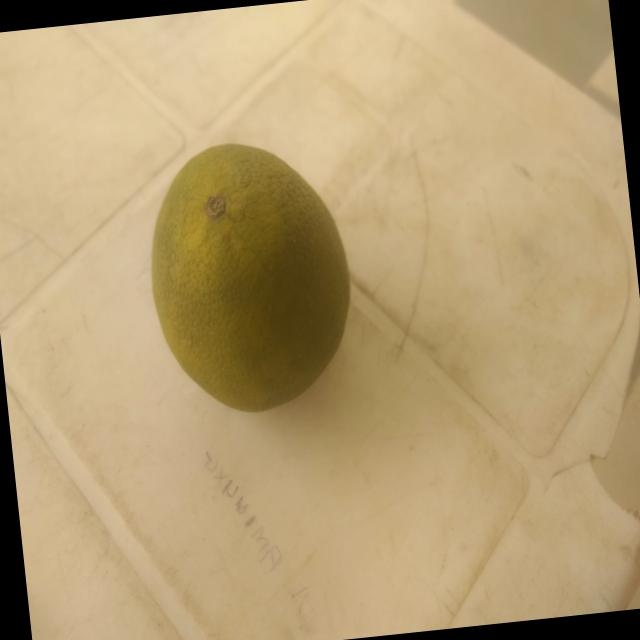agrume: (124, 106, 372, 431)
